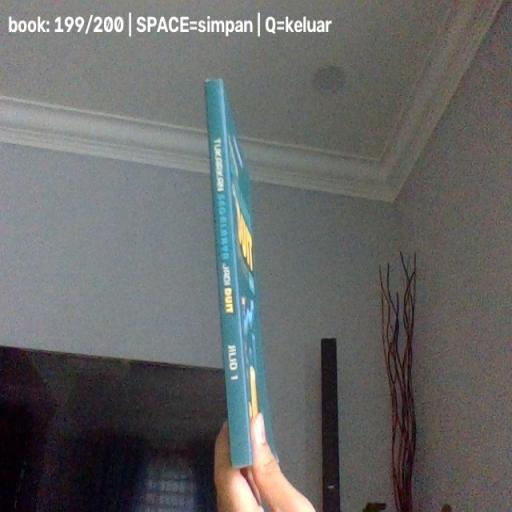Book: (202, 78, 280, 469)
